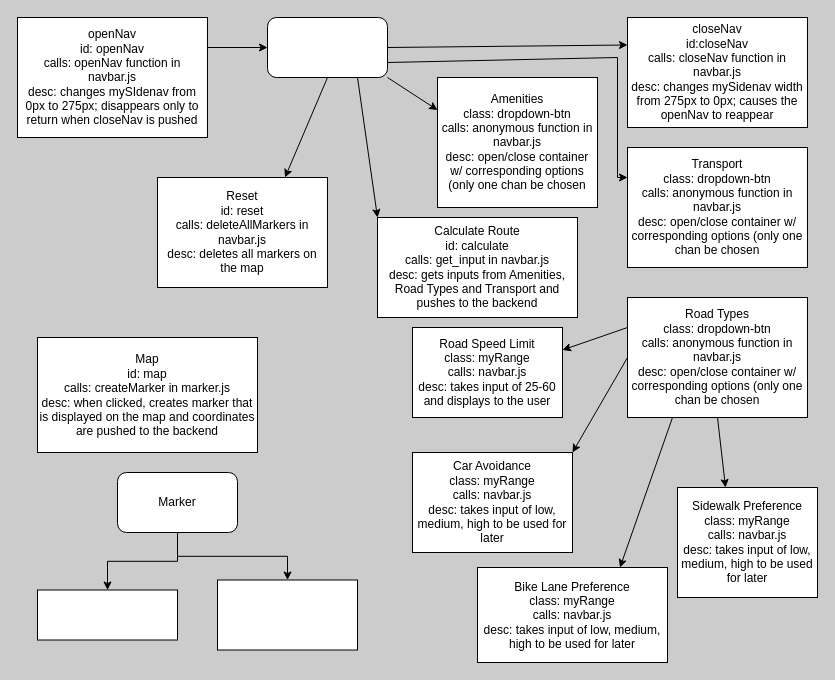
This 835x680 diagram has some shape labels left out. The shapes that lost their labels are listed below. From the top down, each one's box as (x1, y1, x2, y2) in pixels, then its label:
(266, 16, 388, 78): mySidenav
(36, 589, 178, 640): desc: when clicked, calls deletemarker from marker.js
(216, 579, 358, 650): desc: when dragged, moves marker on the map and updates coordinates
